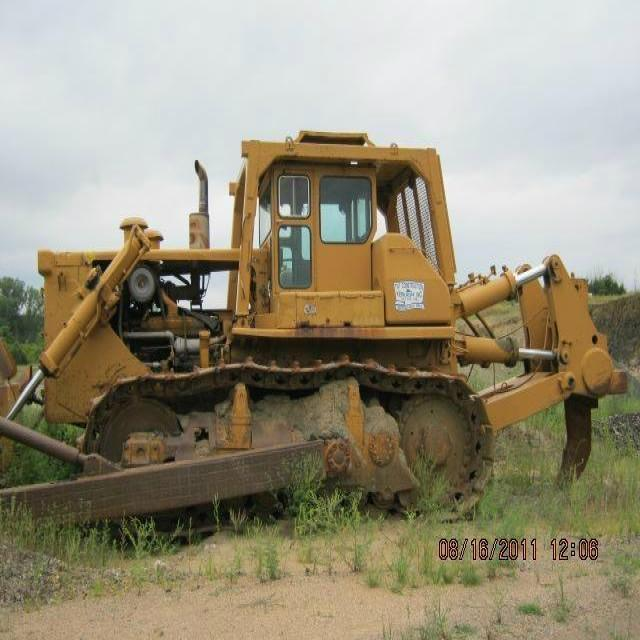buldozerpayloadergrader: (23, 69, 600, 544)
